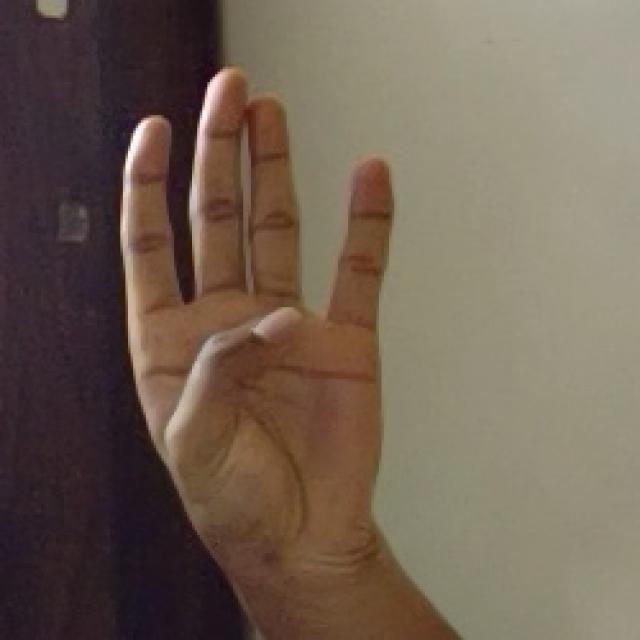Numeric-4: (119, 61, 394, 579)
